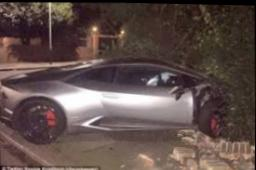Bonnet: (208, 71, 236, 92)
Fender: (186, 83, 236, 127)
